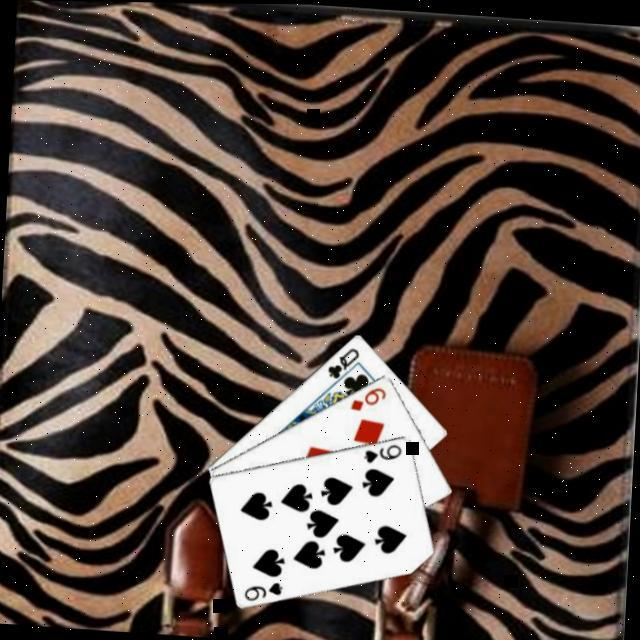6D: (348, 382, 391, 416)
9S: (361, 439, 406, 468), (242, 577, 287, 606)
QC: (326, 343, 364, 383)
